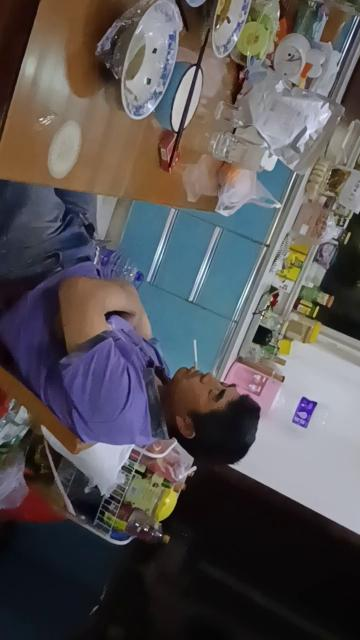Cigarette: (194, 340, 198, 370)
